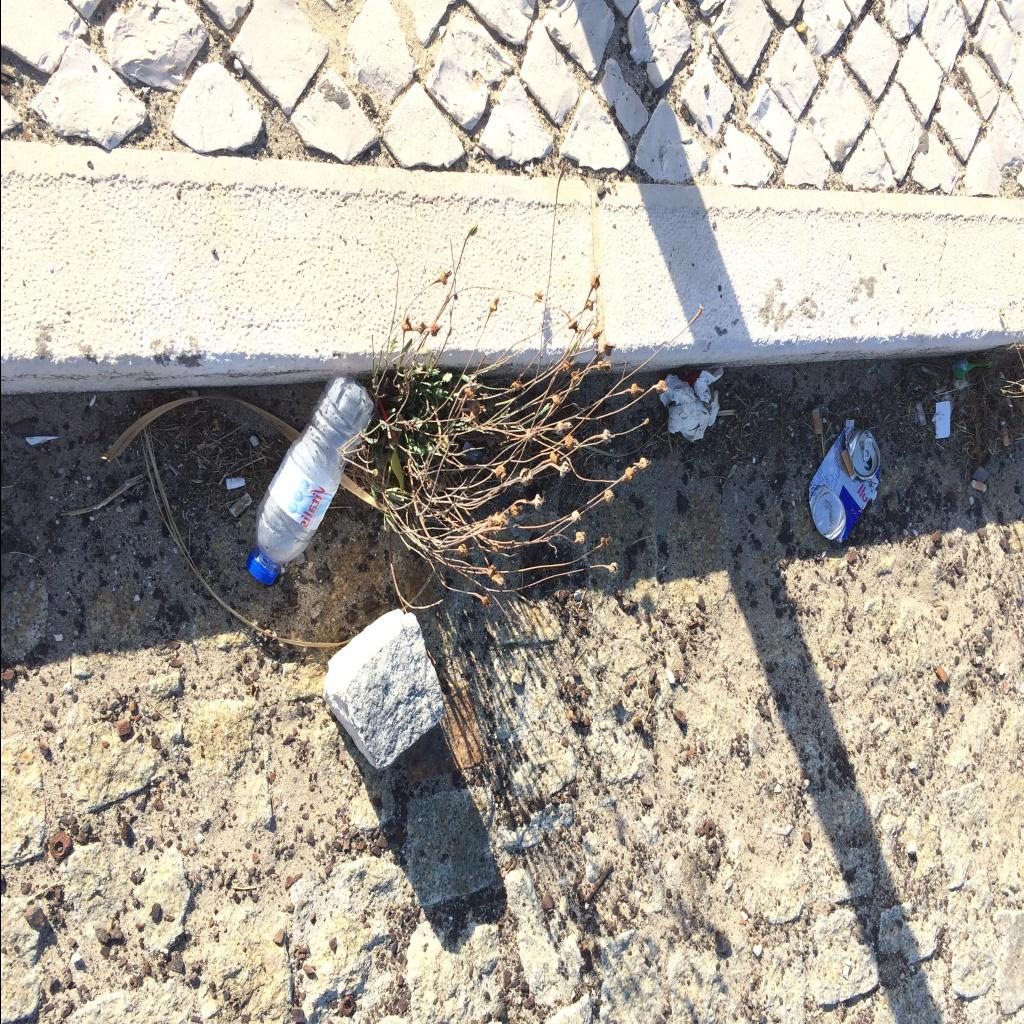Cigarette: (228, 492, 253, 516), (840, 448, 854, 481), (913, 402, 927, 430), (810, 408, 822, 434), (1000, 422, 1010, 446), (226, 477, 244, 489), (970, 480, 986, 492)
Clear plastic bottle: (244, 374, 372, 584)
Drink can: (807, 428, 879, 542)
Plastic bottle cap: (244, 554, 276, 584)
Pop tab: (862, 438, 871, 462)
Unlabeled litter: (934, 402, 948, 438)
